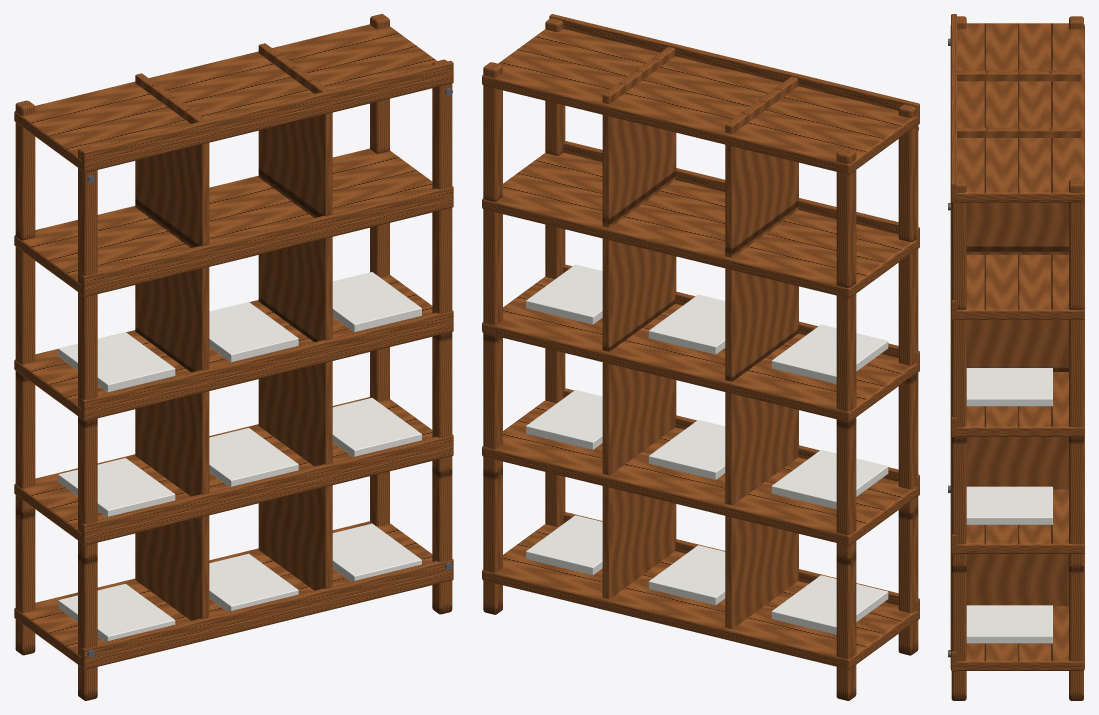
The model's file is prison-complex-builder-mail-sorting-station-3594a74a__25687.glb.
The picture shows the model from 3 angles, left to right: view 1: azimuth 30°, elevation 25°; view 2: azimuth 150°, elevation 25°; view 3: azimuth 270°, elevation 25°; orthographic projection. The views are drawn at different scales.
Visible parts, largest first — view 1: mail-sorting-station; view 2: mail-sorting-station; view 3: mail-sorting-station.
Part boxes in pixels (left/top/right/bottom): mail-sorting-station: left=14, top=14, right=453, bottom=700; mail-sorting-station: left=482, top=14, right=919, bottom=700; mail-sorting-station: left=948, top=14, right=1084, bottom=700.
Bounding box in the file's own units: 1.2 × 1.71 × 0.408.
Materials: 4 (1 with a texture image).
